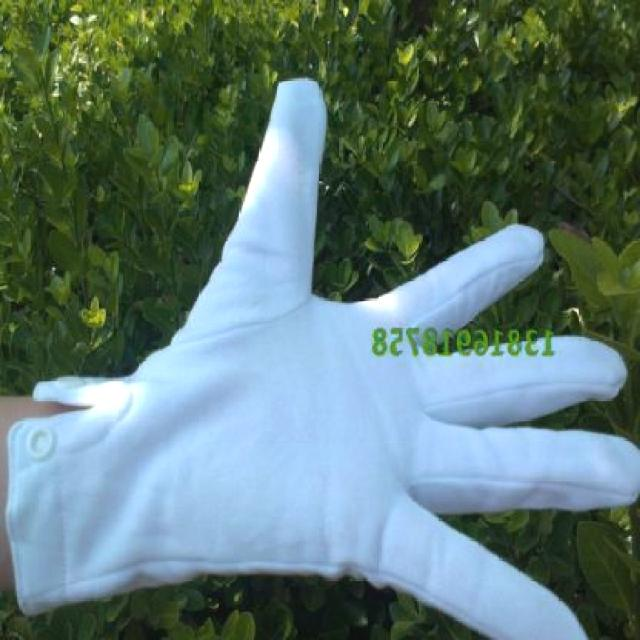hand_glove: (102, 76, 640, 639)
